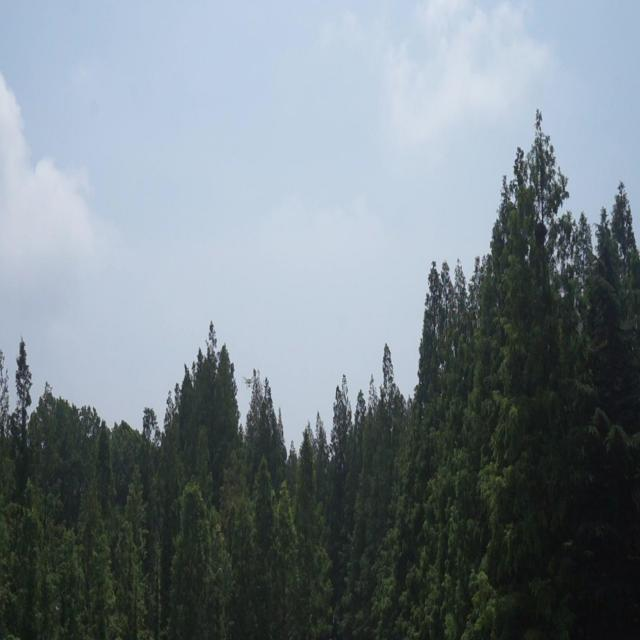UAV: (241, 376, 254, 389)
